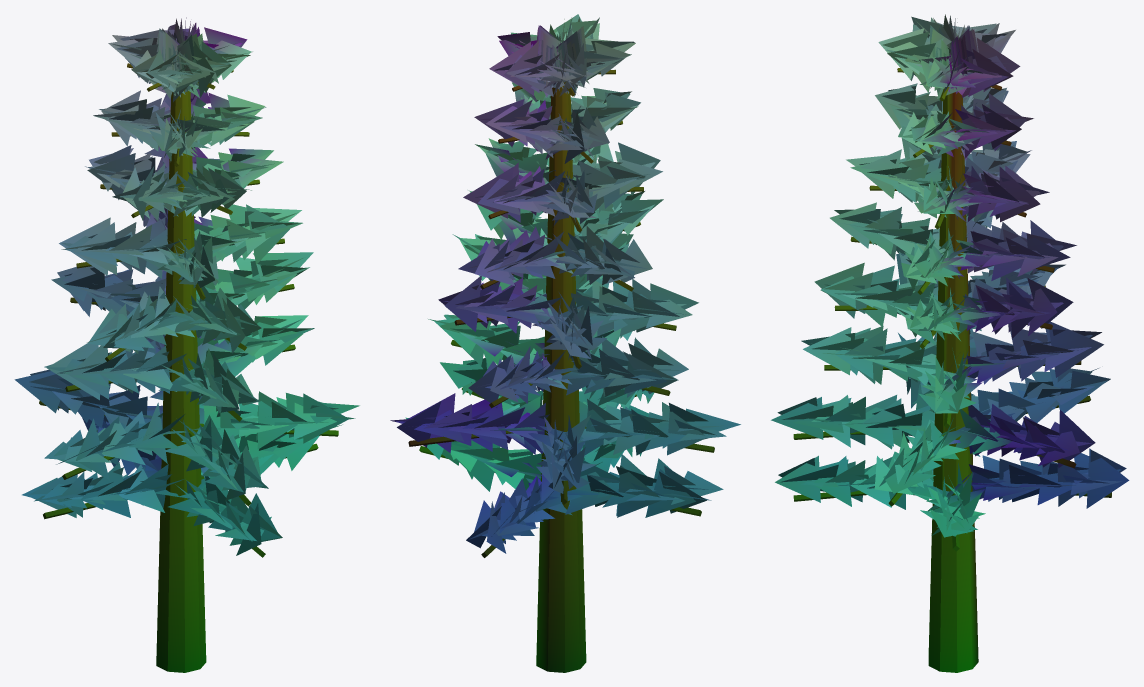
The model's file is mature_conifer_02.glb.
3 views of the same model, side by side, from view 1: azimuth 30°, elevation 25°; view 2: azimuth 150°, elevation 25°; view 3: azimuth 270°, elevation 25° (orthographic).
Parts seen in each view (by area): view 1: mature_conifer_02; view 2: mature_conifer_02; view 3: mature_conifer_02.
Boxes of the visible parts, bbox=[...] form: mature_conifer_02: bbox=[14, 17, 359, 672]; mature_conifer_02: bbox=[390, 14, 740, 672]; mature_conifer_02: bbox=[771, 14, 1129, 672].
Size of the model in its own units: 6.83 by 13.25 by 6.73.
